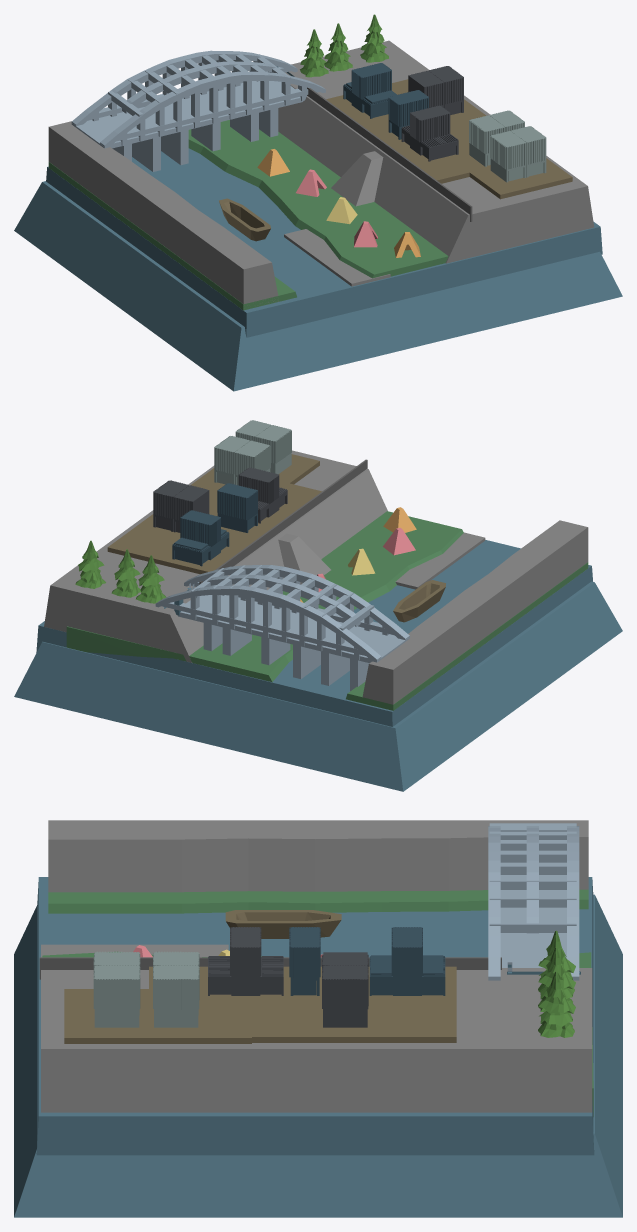
The model's file is morioka-color.glb.
3 renders of one model, top to bottom at view 1: azimuth 30°, elevation 25°; view 2: azimuth 150°, elevation 25°; view 3: azimuth 270°, elevation 25°, orthographic. The views are drawn at different scales.
Parts seen in each view (by area): view 1: かわまち3D_Town_盛岡_for_テクスチャ.457, かわまち3D_Town_盛岡_for_テクスチャ.458, かわまち3D_Town_盛岡_for_テクスチャ.002, かわまち3D_Town_盛岡_for_テクスチャ.014, かわまち3D_Town_盛岡_for_テクスチャ.004, かわまち3D_Town_盛岡_for_テクスチャ.006, かわまち3D_Town_盛岡_for_テクスチャ.022, かわまち3D_Town_盛岡_for_テクスチャ.271, かわまち3D_Town_盛岡_for_テクスチャ.020, かわまち3D_Town_盛岡_for_テクスチャ.059, かわまち3D_Town_盛岡_for_テクスチャ.322, かわまち3D_Town_盛岡_for_テクスチャ.045 (+20 smaller); view 2: かわまち3D_Town_盛岡_for_テクスチャ.457, かわまち3D_Town_盛岡_for_テクスチャ.002, かわまち3D_Town_盛岡_for_テクスチャ.014, かわまち3D_Town_盛岡_for_テクスチャ.458, かわまち3D_Town_盛岡_for_テクスチャ.004, かわまち3D_Town_盛岡_for_テクスチャ.006, かわまち3D_Town_盛岡_for_テクスチャ.022, かわまち3D_Town_盛岡_for_テクスチャ.045, かわまち3D_Town_盛岡_for_テクスチャ.322, かわまち3D_Town_盛岡_for_テクスチャ.367, かわまち3D_Town_盛岡_for_テクスチャ.007, かわまち3D_Town_盛岡_for_テクスチャ.020 (+19 smaller); view 3: かわまち3D_Town_盛岡_for_テクスチャ.457, かわまち3D_Town_盛岡_for_テクスチャ.002, かわまち3D_Town_盛岡_for_テクスチャ.458, かわまち3D_Town_盛岡_for_テクスチャ.014, かわまち3D_Town_盛岡_for_テクスチャ.003, かわまち3D_Town_盛岡_for_テクスチャ.006, かわまち3D_Town_盛岡_for_テクスチャ.005, かわまち3D_Town_盛岡_for_テクスチャ.322, かわまち3D_Town_盛岡_for_テクスチャ.059, かわまち3D_Town_盛岡_for_テクスチャ.271, かわまち3D_Town_盛岡_for_テクスチャ.007, かわまち3D_Town_盛岡_for_テクスチャ.367 (+19 smaller).
Part boxes in pixels (bbox=[...]): かわまち3D_Town_盛岡_for_テクスチャ.457: bbox=[14, 181, 622, 391]; かわまち3D_Town_盛岡_for_テクスチャ.458: bbox=[46, 148, 602, 337]; かわまち3D_Town_盛岡_for_テクスチャ.002: bbox=[278, 40, 594, 263]; かわまち3D_Town_盛岡_for_テクスチャ.014: bbox=[48, 121, 278, 306]; かわまち3D_Town_盛岡_for_テクスチャ.004: bbox=[188, 120, 448, 278]; かわまち3D_Town_盛岡_for_テクスチャ.006: bbox=[326, 79, 490, 183]; かわまち3D_Town_盛岡_for_テクスチャ.022: bbox=[72, 81, 303, 148]; かわまち3D_Town_盛岡_for_テクスチャ.271: bbox=[490, 126, 546, 182]; かわまち3D_Town_盛岡_for_テクスチャ.020: bbox=[100, 71, 325, 148]; かわまち3D_Town_盛岡_for_テクスチャ.059: bbox=[401, 105, 458, 161]; かわまち3D_Town_盛岡_for_テクスチャ.322: bbox=[343, 63, 396, 118]; かわまち3D_Town_盛岡_for_テクスチャ.045: bbox=[71, 50, 297, 125]; かわまち3D_Town_盛岡_for_テクスチャ.457: bbox=[14, 581, 622, 791]; かわまち3D_Town_盛岡_for_テクスチャ.002: bbox=[44, 450, 387, 662]; かわまち3D_Town_盛岡_for_テクスチャ.014: bbox=[362, 520, 588, 704]; かわまち3D_Town_盛岡_for_テクスチャ.458: bbox=[36, 540, 592, 726]; かわまち3D_Town_盛岡_for_テクスチャ.004: bbox=[66, 511, 463, 682]; かわまち3D_Town_盛岡_for_テクスチャ.006: bbox=[107, 482, 321, 574]; かわまち3D_Town_盛岡_for_テクスチャ.022: bbox=[177, 595, 408, 663]; かわまち3D_Town_盛岡_for_テクスチャ.045: bbox=[155, 585, 381, 662]; かわまち3D_Town_盛岡_for_テクスチャ.322: bbox=[172, 510, 229, 566]; かわまち3D_Town_盛岡_for_テクスチャ.367: bbox=[153, 480, 209, 532]; かわまち3D_Town_盛岡_for_テクスチャ.007: bbox=[214, 436, 270, 485]; かわまち3D_Town_盛岡_for_テクスチャ.020: bbox=[184, 565, 409, 640]; かわまち3D_Town_盛岡_for_テクスチャ.457: bbox=[14, 894, 622, 1217]; かわまち3D_Town_盛岡_for_テクスチャ.002: bbox=[41, 968, 592, 1112]; かわまち3D_Town_盛岡_for_テクスチャ.458: bbox=[36, 877, 594, 1155]; かわまち3D_Town_盛岡_for_テクスチャ.014: bbox=[48, 820, 588, 892]; かわまち3D_Town_盛岡_for_テクスチャ.003: bbox=[48, 889, 588, 913]; かわまち3D_Town_盛岡_for_テクスチャ.006: bbox=[149, 966, 456, 1042]; かわまち3D_Town_盛岡_for_テクスチャ.005: bbox=[64, 989, 251, 1043]; かわまち3D_Town_盛岡_for_テクスチャ.322: bbox=[369, 927, 445, 995]; かわまち3D_Town_盛岡_for_テクスチャ.059: bbox=[208, 927, 283, 995]; かわまち3D_Town_盛岡_for_テクスチャ.271: bbox=[93, 951, 140, 1027]; かわまち3D_Town_盛岡_for_テクスチャ.007: bbox=[153, 951, 199, 1027]; かわまち3D_Town_盛岡_for_テクスチャ.367: bbox=[322, 952, 368, 1027].
Bounding box in the file's own units: 6.64 × 2.47 × 6.49.
